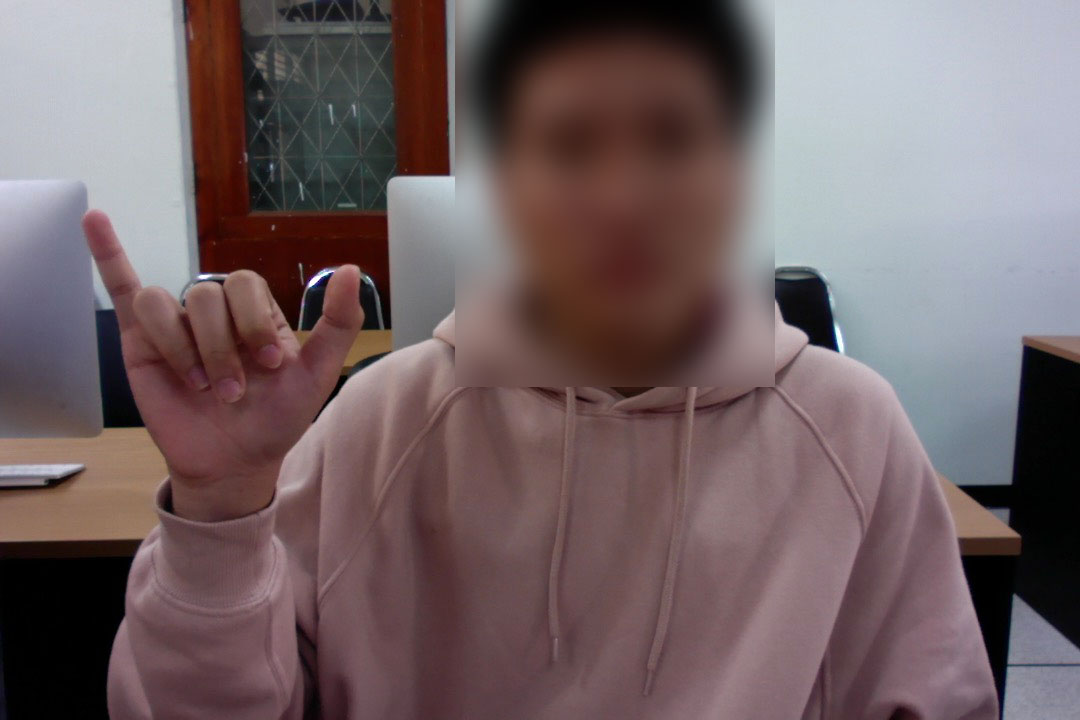yor: (78, 197, 377, 489)
